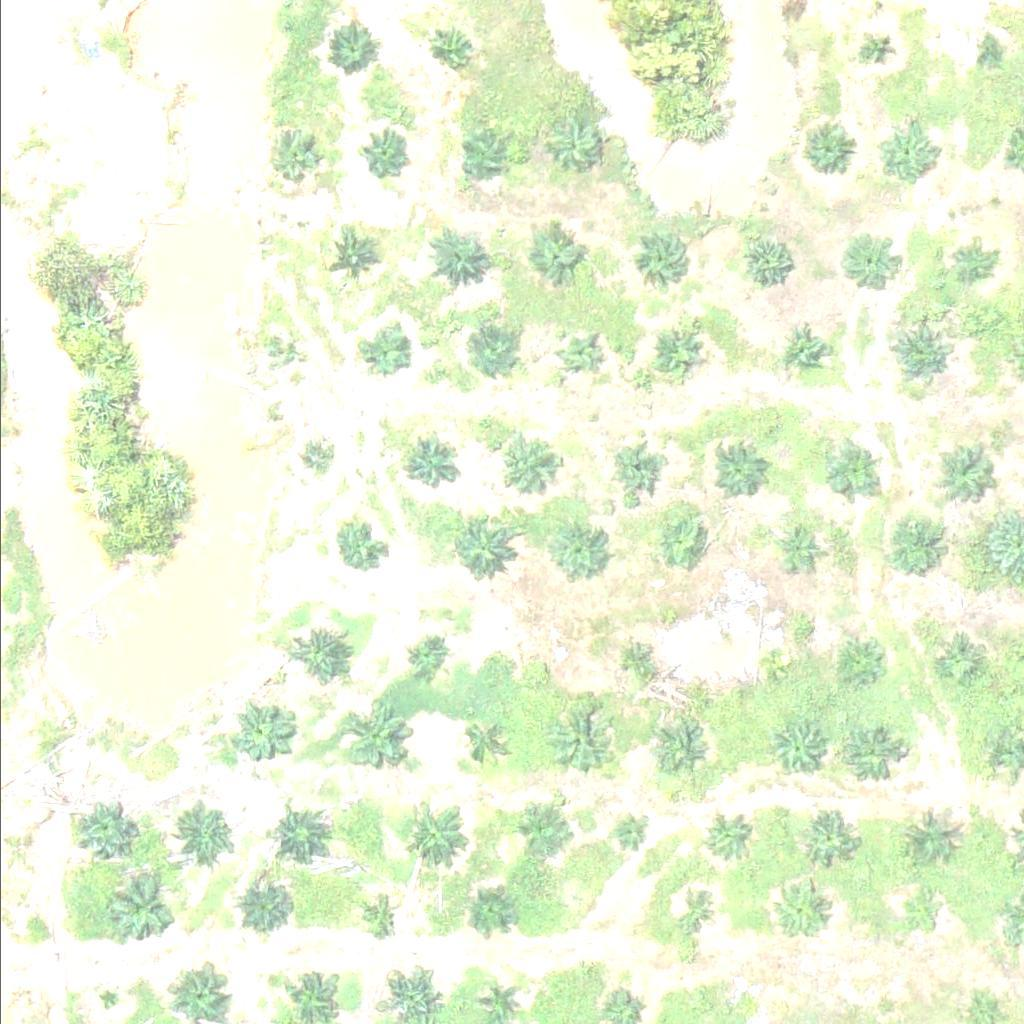Kelapa_Sawit: (877, 509, 953, 584), (551, 704, 627, 779), (102, 865, 178, 940), (344, 701, 407, 764), (935, 438, 998, 501), (839, 723, 902, 786), (421, 226, 484, 289), (889, 323, 952, 386), (167, 798, 230, 861), (235, 697, 298, 760), (70, 797, 133, 860), (403, 800, 466, 862), (455, 517, 518, 579), (492, 435, 555, 497), (647, 715, 710, 777), (895, 803, 958, 865), (545, 514, 608, 576), (792, 117, 855, 179), (650, 321, 713, 383), (874, 121, 937, 183), (290, 620, 353, 682), (761, 720, 823, 782), (266, 805, 328, 867), (238, 872, 300, 934), (366, 324, 417, 374), (465, 328, 516, 378), (528, 226, 579, 276), (842, 237, 893, 287), (543, 120, 594, 170), (460, 131, 511, 181), (362, 131, 413, 181), (323, 231, 374, 281), (741, 234, 792, 284), (777, 325, 828, 375), (401, 439, 451, 489), (334, 520, 384, 570), (617, 446, 667, 496), (823, 449, 873, 499), (713, 445, 763, 495), (840, 635, 890, 685), (936, 634, 986, 684), (805, 816, 855, 866), (773, 886, 823, 936), (510, 799, 560, 849), (657, 512, 707, 562), (639, 231, 689, 281), (323, 22, 373, 72), (288, 969, 338, 1019), (463, 885, 513, 935), (454, 716, 504, 766), (397, 631, 447, 681), (614, 639, 664, 689), (262, 133, 312, 183), (427, 25, 477, 75), (701, 811, 751, 861), (779, 527, 817, 565), (949, 240, 987, 278), (354, 901, 392, 939), (611, 814, 649, 852), (900, 891, 938, 929), (675, 895, 713, 933), (479, 980, 517, 1017), (562, 334, 600, 371), (858, 32, 896, 69), (306, 445, 331, 470), (764, 648, 789, 673), (529, 655, 554, 680), (974, 38, 999, 63), (272, 350, 297, 375)
